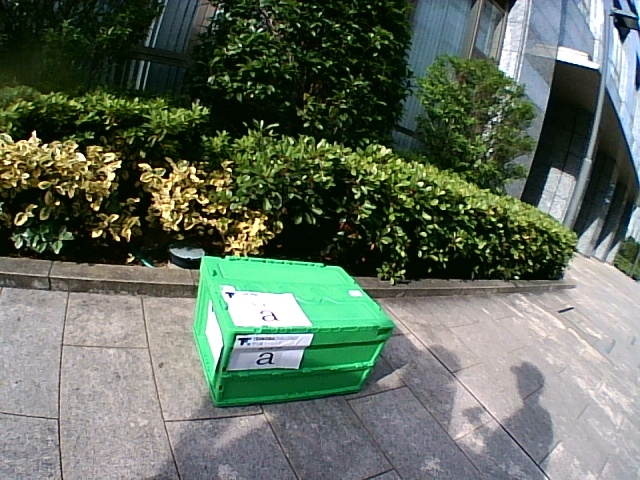blue_box: (192, 254, 394, 407)
tag_b: (234, 293, 296, 326), (237, 335, 299, 368)
